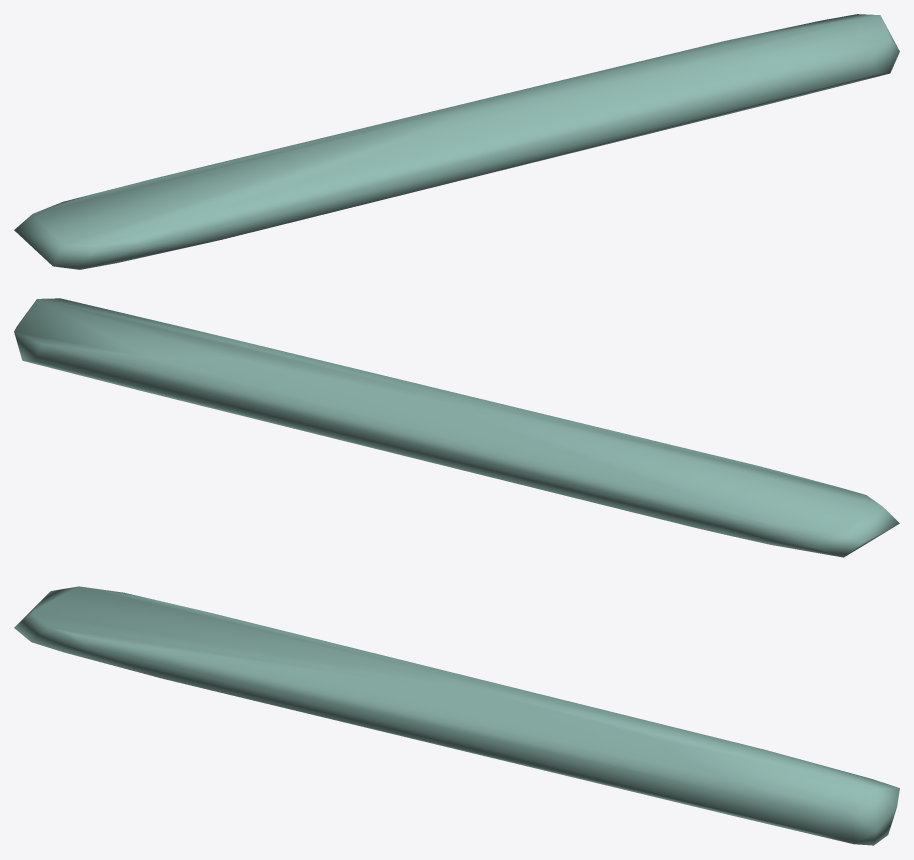
3 views of the same model, one above another, from view 1: azimuth 30°, elevation 25°; view 2: azimuth 150°, elevation 25°; view 3: azimuth 330°, elevation 25° (orthographic).
Size of the model in its own units: 2.01 by 0.1298 by 0.2532.
